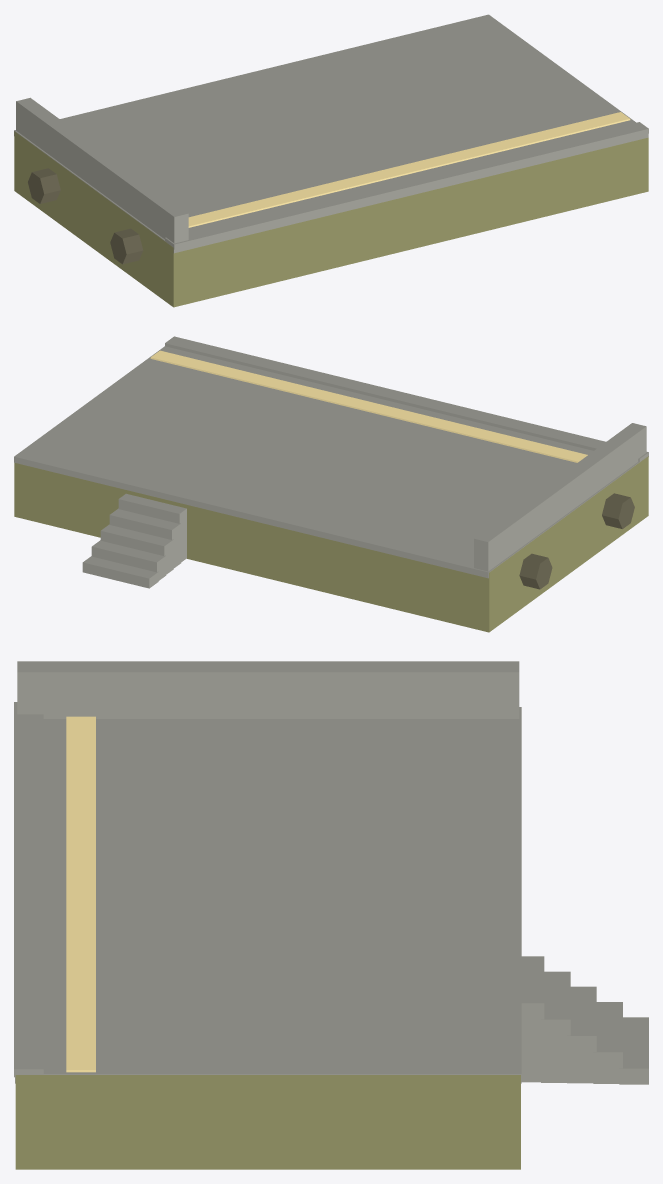
The model's file is SM_MuelleCarga_v4_LOD1.fbx.
The picture shows the model from 3 angles, top to bottom: view 1: azimuth 30°, elevation 25°; view 2: azimuth 150°, elevation 25°; view 3: azimuth 270°, elevation 25°; orthographic projection. The views are drawn at different scales.
Parts seen in each view (by area): view 1: SM_muelle_carga_v4_LOD1; view 2: SM_muelle_carga_v4_LOD1; view 3: SM_muelle_carga_v4_LOD1.
Part boxes in pixels (x1,y1,x2,y2): SM_muelle_carga_v4_LOD1: (14,14,648,307); SM_muelle_carga_v4_LOD1: (14,336,648,632); SM_muelle_carga_v4_LOD1: (14,661,648,1169).
Bounding box in the file's own units: 10.33 × 1.8 × 7.29.
